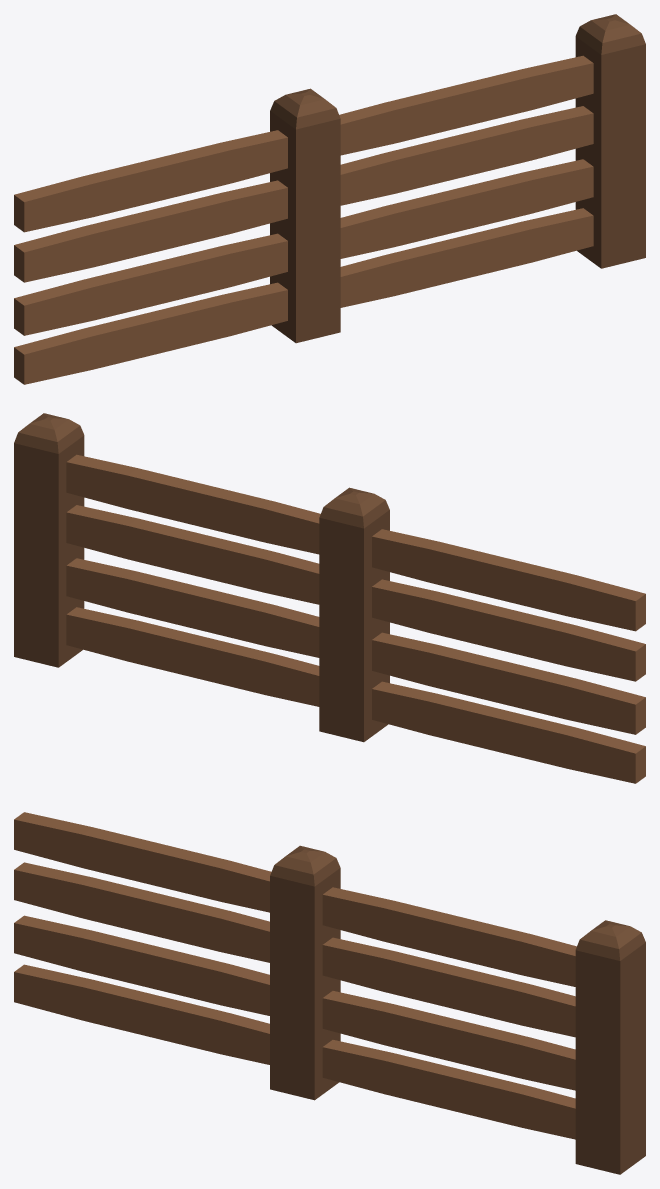
Rendered from fence.fbx.
The picture shows the model from 3 angles, top to bottom: view 1: azimuth 30°, elevation 25°; view 2: azimuth 150°, elevation 25°; view 3: azimuth 330°, elevation 25°; orthographic projection.
Parts seen in each view (by area): view 1: Plane, Plane.001, Plane.007, Plane.008, Plane.006, Plane.009, Plane.005, Plane.002, Plane.003, Plane.004; view 2: Plane, Plane.001, Plane.007, Plane.008, Plane.006, Plane.009, Plane.005, Plane.002, Plane.003, Plane.004; view 3: Plane.001, Plane, Plane.006, Plane.009, Plane.007, Plane.008, Plane.005, Plane.002, Plane.003, Plane.004.
Boxes of the visible parts, x1,y1,x2,y2 form: Plane: (270,88,340,343); Plane.001: (575,14,645,268); Plane.007: (14,180,287,282); Plane.008: (14,233,287,335); Plane.006: (14,130,287,232); Plane.009: (14,282,287,384); Plane.005: (340,208,593,307); Plane.002: (339,55,593,155); Plane.003: (340,106,593,205); Plane.004: (340,159,593,258); Plane: (319,487,389,742); Plane.001: (14,413,84,667); Plane.007: (372,579,645,681); Plane.008: (372,632,645,734); Plane.006: (372,529,645,631); Plane.009: (372,681,645,783); Plane.005: (66,607,319,706); Plane.002: (66,454,320,554); Plane.003: (66,505,319,604); Plane.004: (66,558,319,657); Plane.001: (575,920,645,1174); Plane: (270,845,340,1100); Plane.006: (14,812,271,912); Plane.009: (14,964,269,1064); Plane.007: (14,862,269,962); Plane.008: (14,915,269,1015); Plane.005: (322,1040,575,1139); Plane.002: (322,887,576,986); Plane.003: (322,937,575,1037); Plane.004: (322,991,575,1090).
Size of the model in its own units: 335 by 122 by 24.37.
